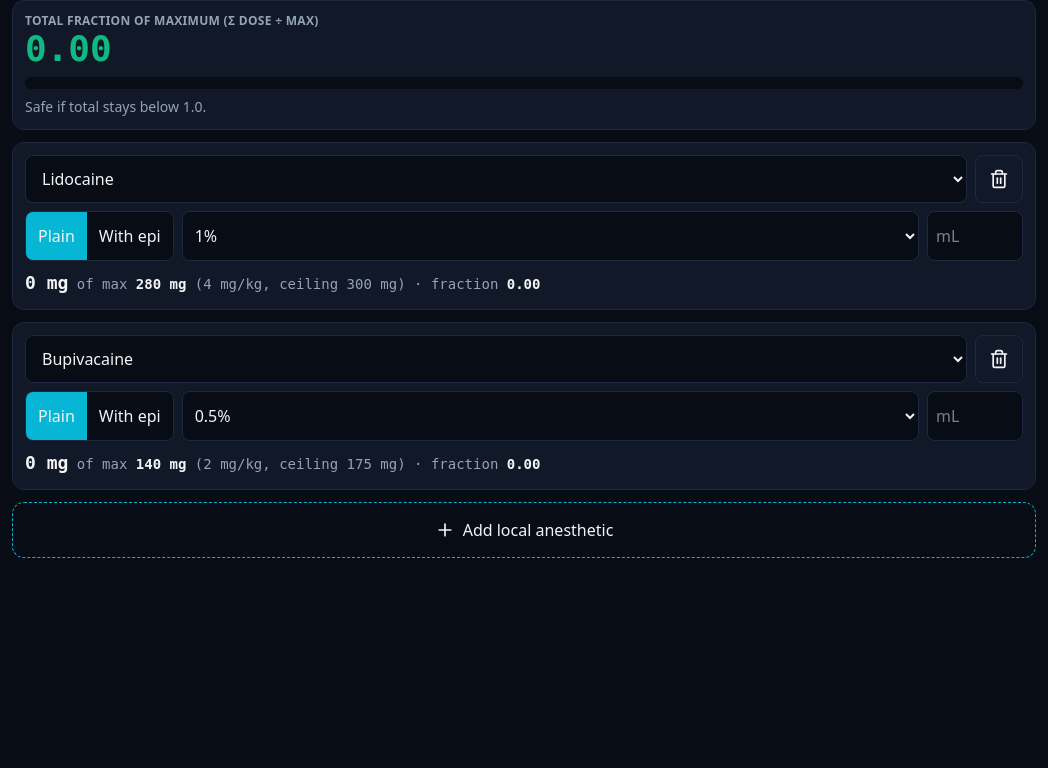
Test: LocalMaxView › warns that invalid volumes are excluded from the total
In the field named "volume in ml": (975, 236) [927,211,1023,261], type "abc"
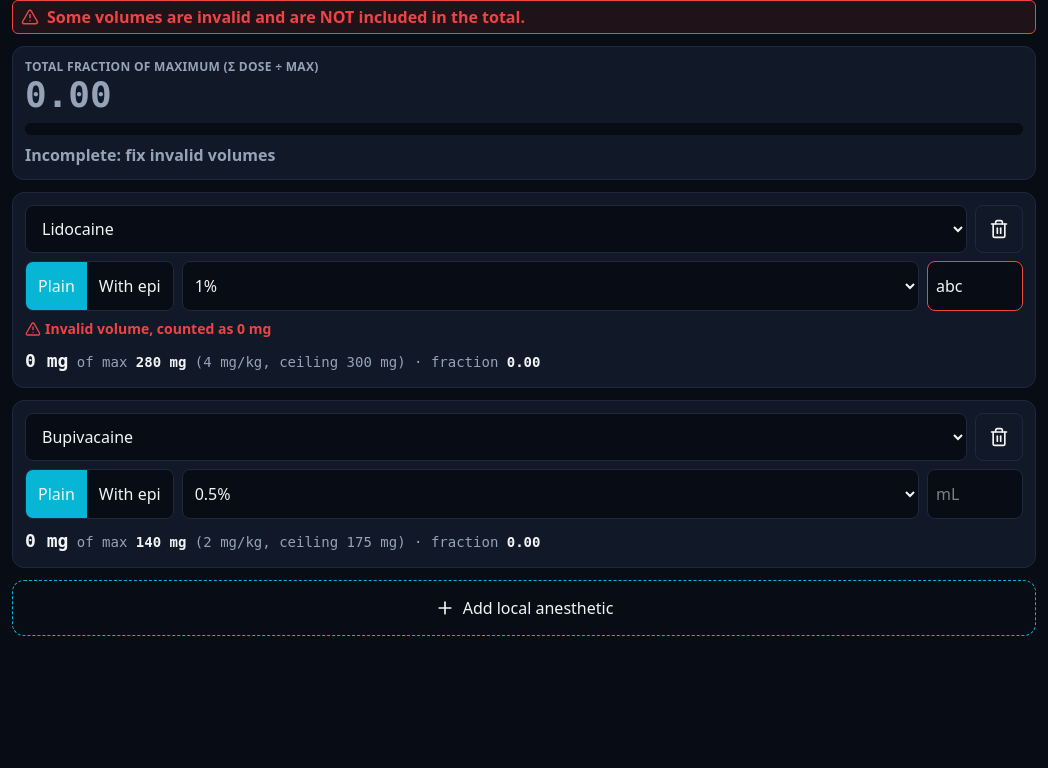
Result: the message "Some volumes are invalid and are NOT included in the total." is shown at [12,0,1036,34]
